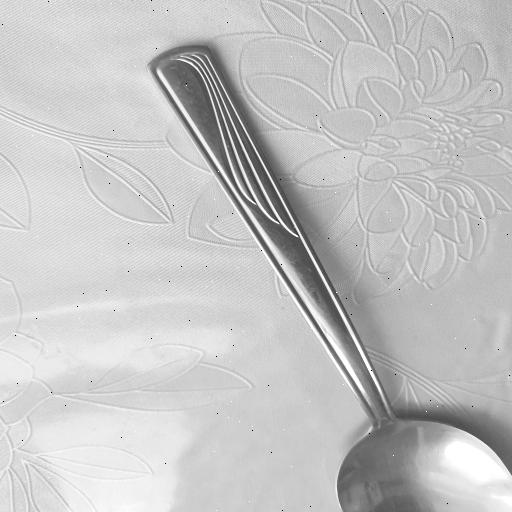spoon: (138, 45, 512, 512)
